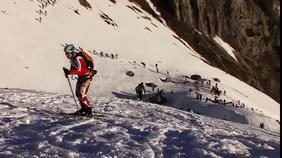down: (96, 11, 117, 25)
